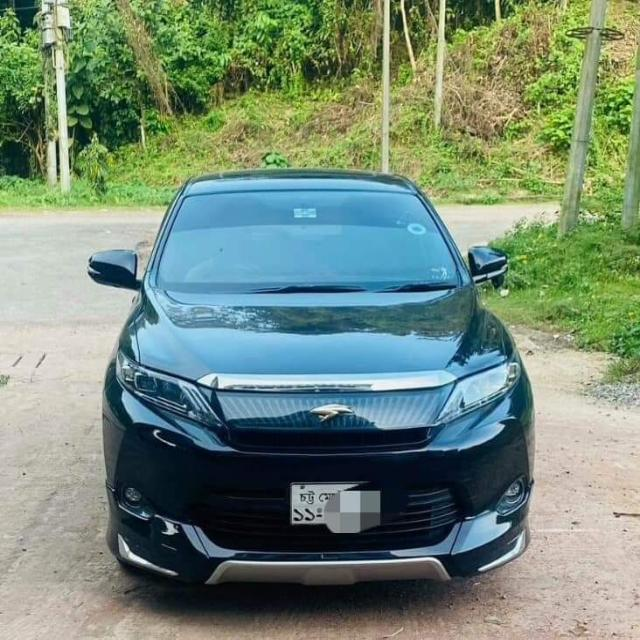black: (90, 178, 534, 586)
